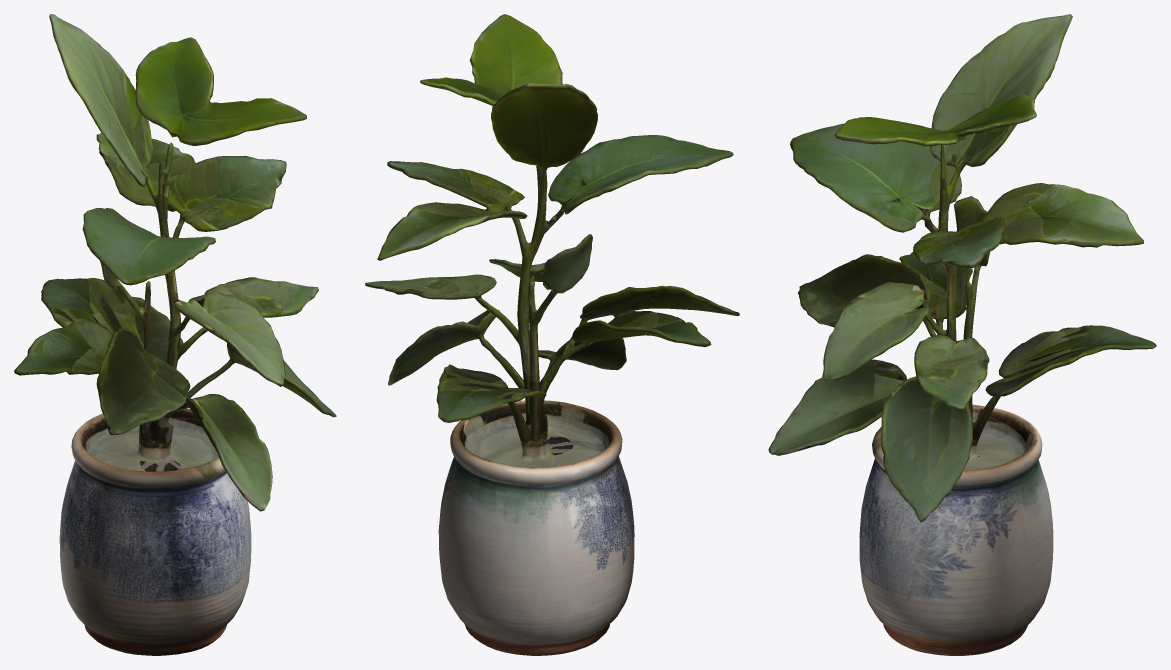
3 views of the same model, side by side, from view 1: azimuth 30°, elevation 25°; view 2: azimuth 150°, elevation 25°; view 3: azimuth 270°, elevation 25° (orthographic). The views are drawn at different scales.
Parts seen in each view (by area): view 1: Mesh1.0; view 2: Mesh1.0; view 3: Mesh1.0.
Boxes of the visible parts, x1,y1,x2,y2 form: Mesh1.0: (14,14,336,655); Mesh1.0: (365,14,739,655); Mesh1.0: (768,14,1156,655).
Size of the model in its own units: 115 by 201 by 120.
1 material, 1 textured.
